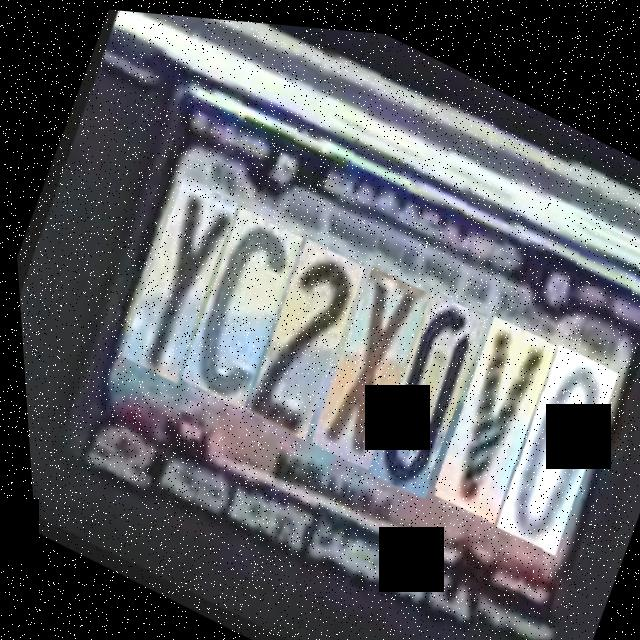0: (344, 270, 494, 491)
2: (223, 221, 371, 436)
C: (160, 193, 308, 408)
O: (473, 319, 625, 542)
V: (411, 292, 563, 513)
X: (288, 248, 435, 463)
Y: (98, 163, 246, 383)
